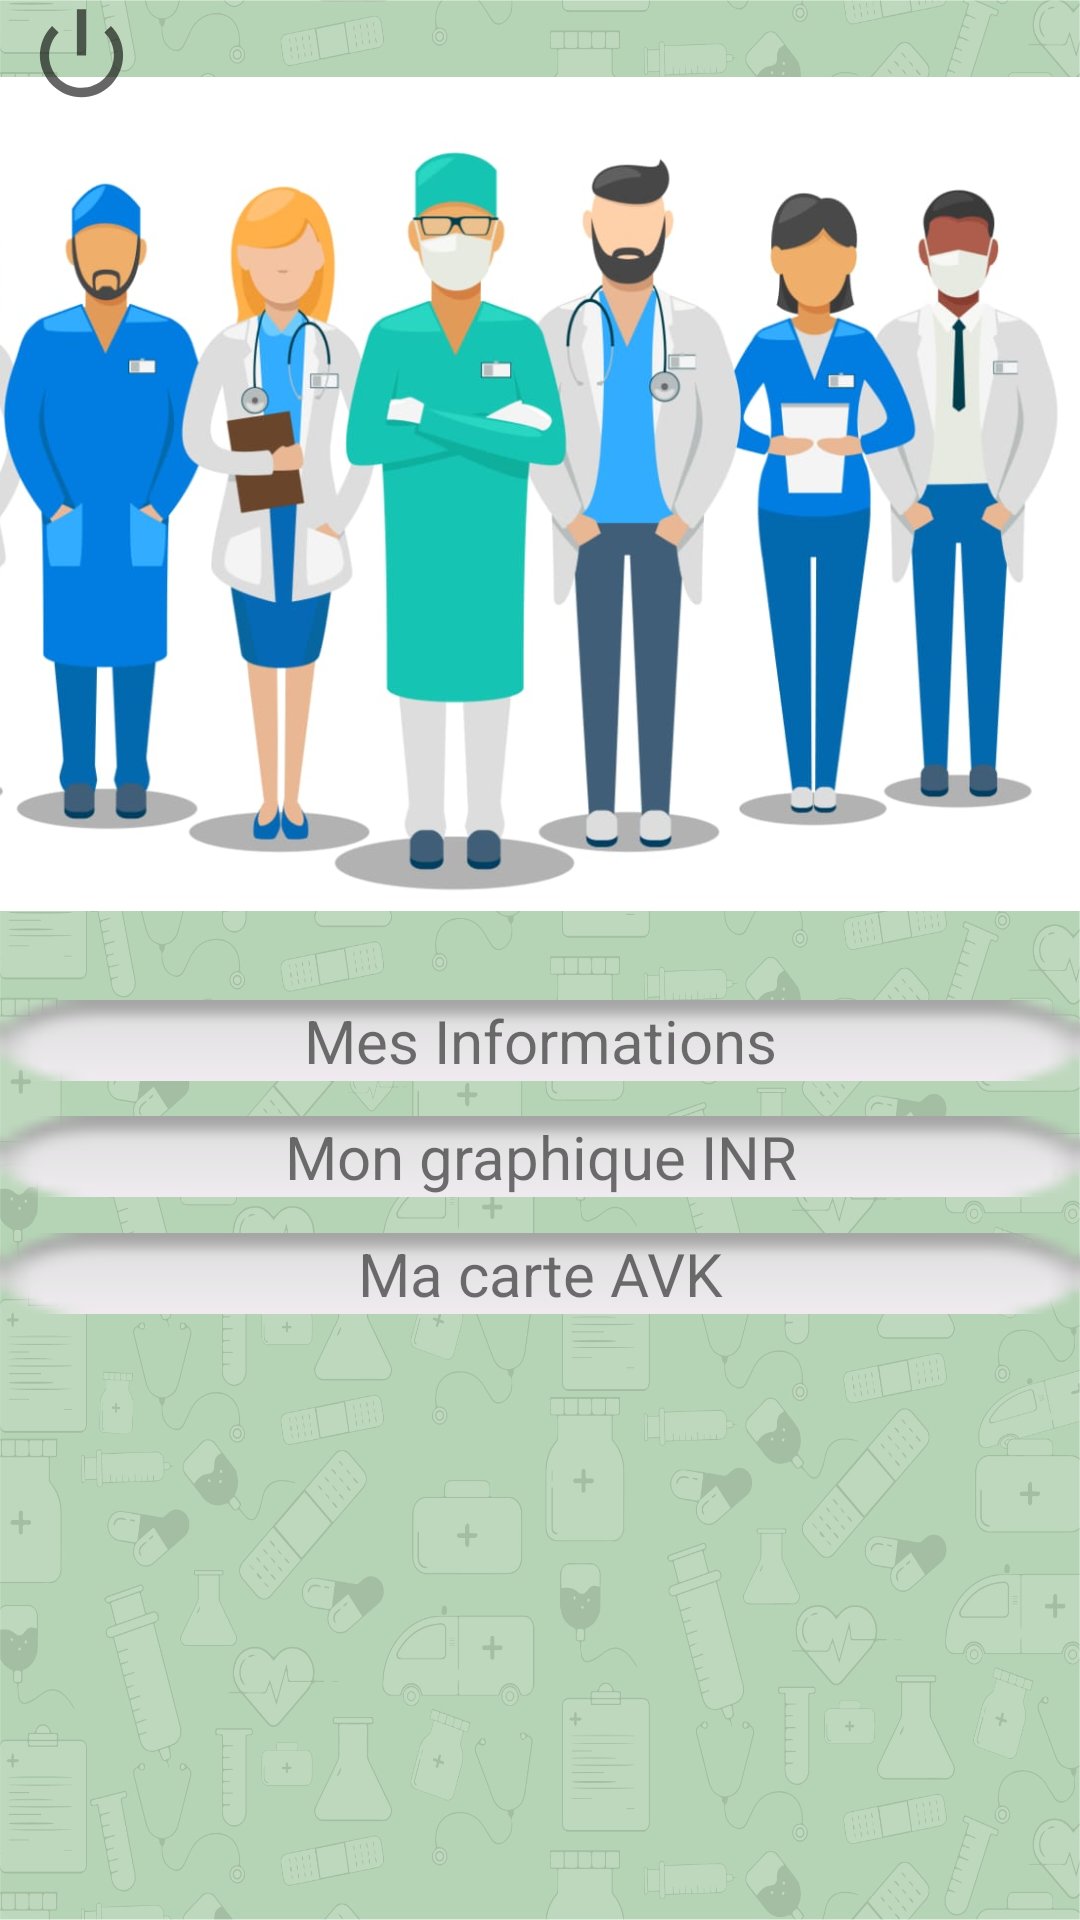

Screen size 1080x1920. Icon name, then its center in pixels as (x,y):
lock power off: (81,49)
